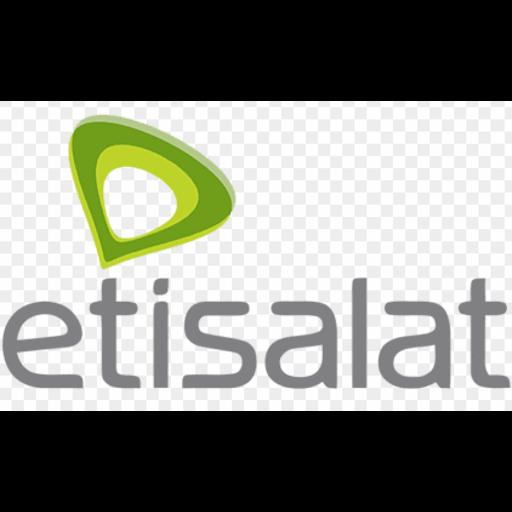Etisalat: (0, 101, 512, 411)
